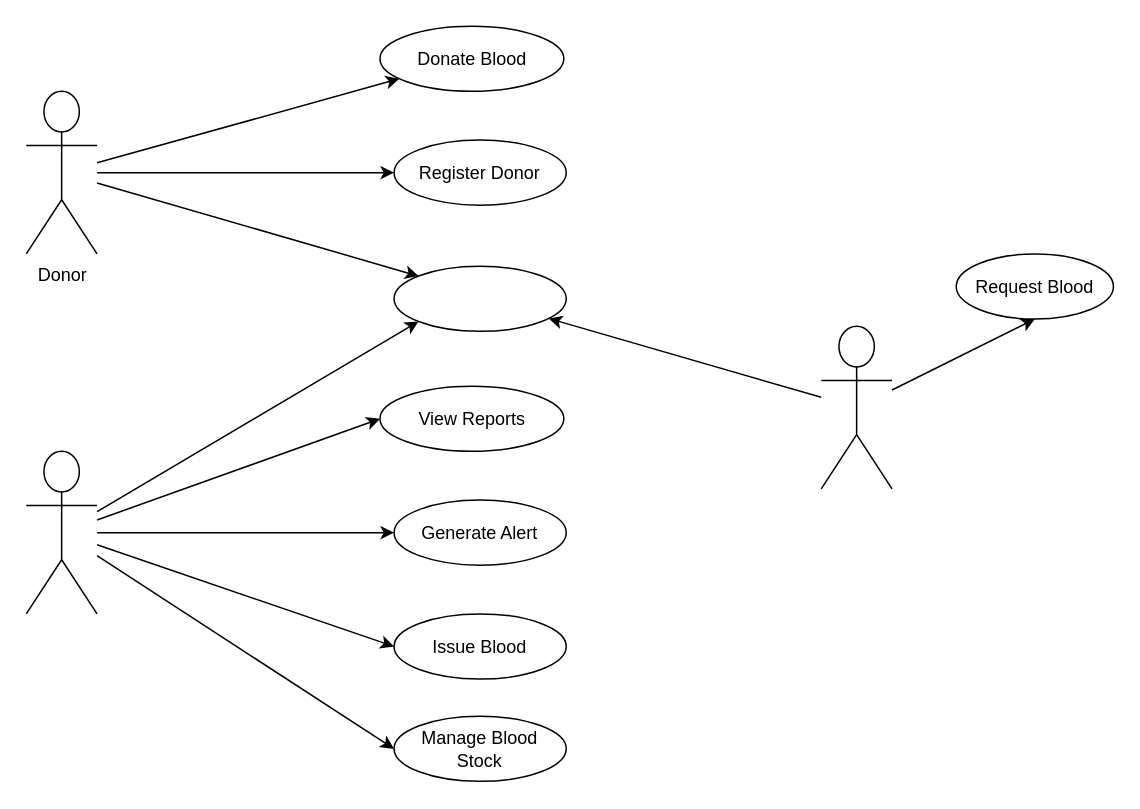
The diagram is 1140 pixels wide and 809 high, and some of its shapes have lost their labels. The centre of each missing label's shape, as x and y in pixels:
Admin: the point at 61,532
Login: the point at 479,298
Recipient: the point at 856,407
